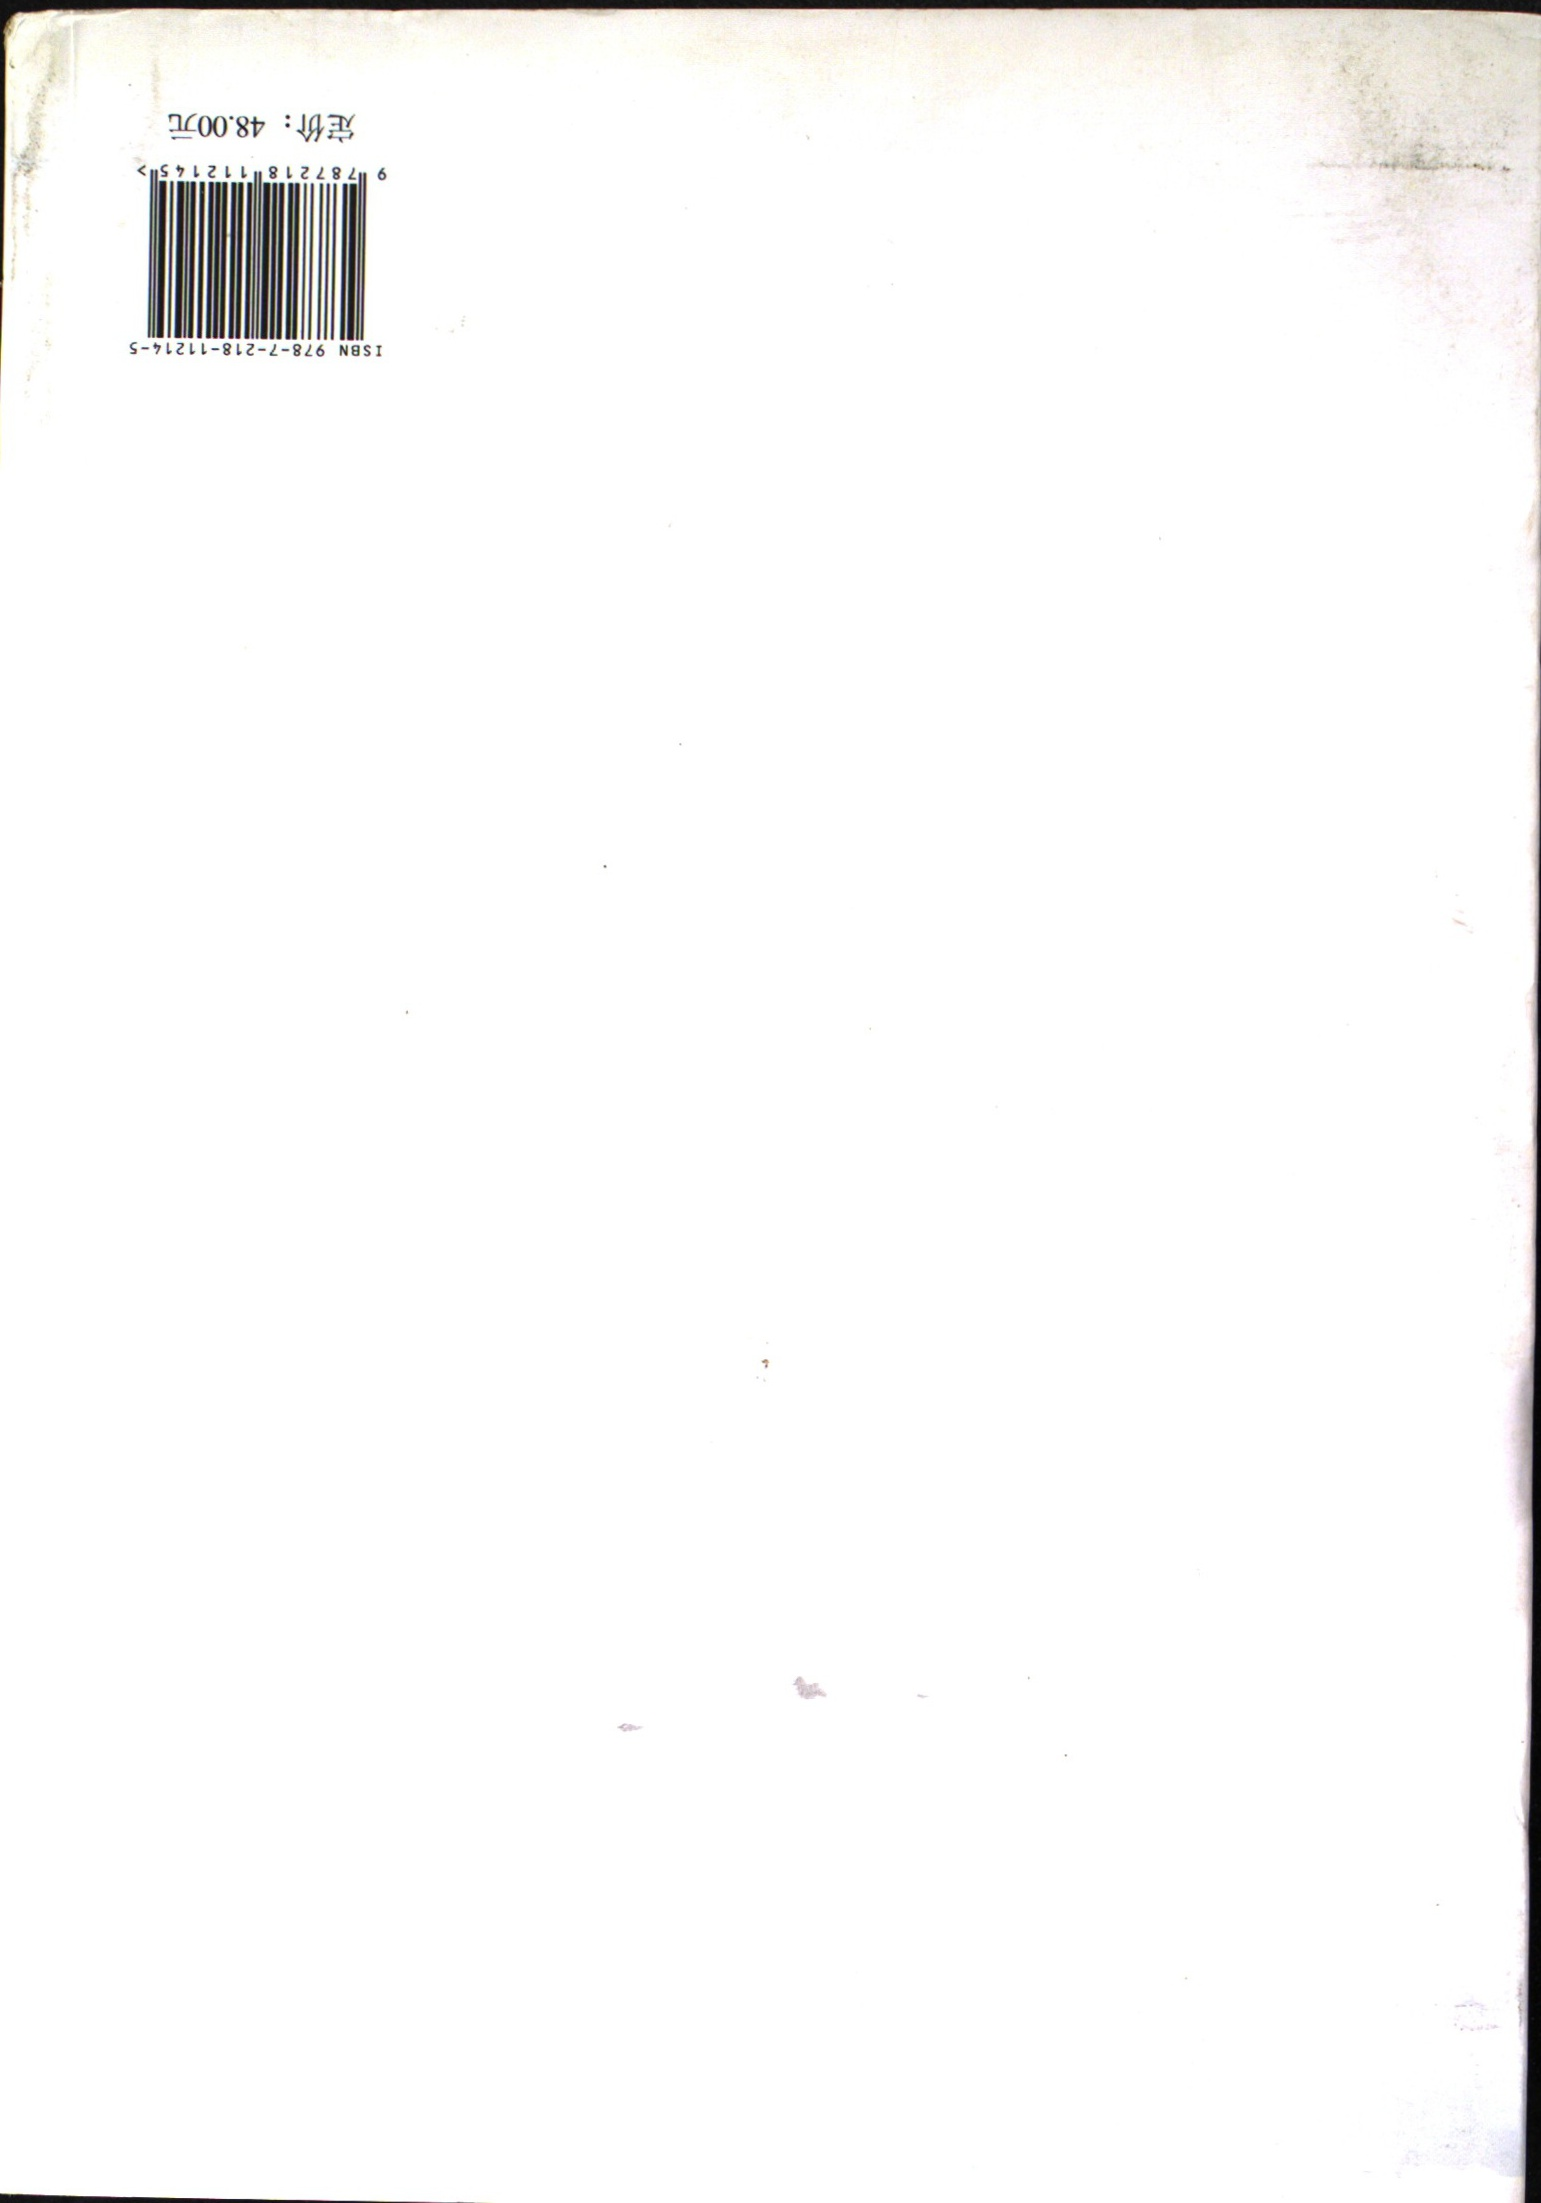barcode: (131, 154, 392, 368)
